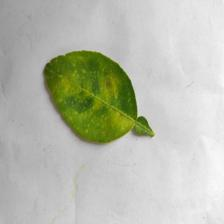greening: (60, 56, 128, 132)
